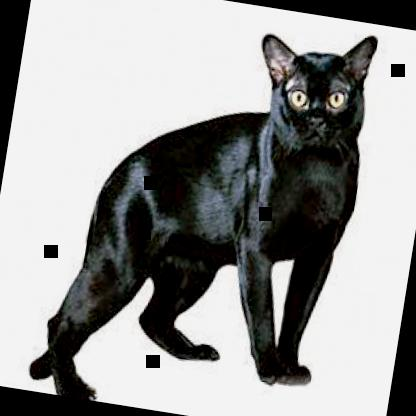cat: (26, 0, 385, 415)
